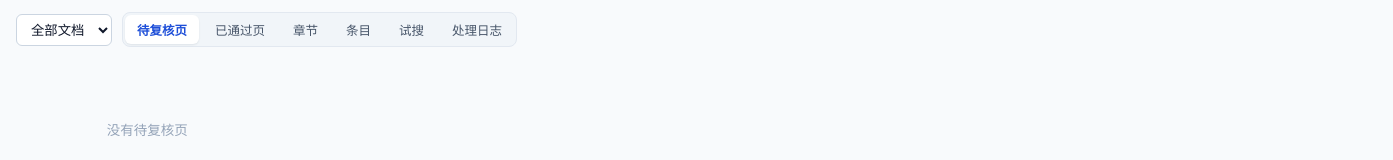
it: MaterialsView › 章节 tab：无页文本资料内容可见
Click the button "章节". click: {"x": 306, "y": 30}
box: 281,15 -> 330,44
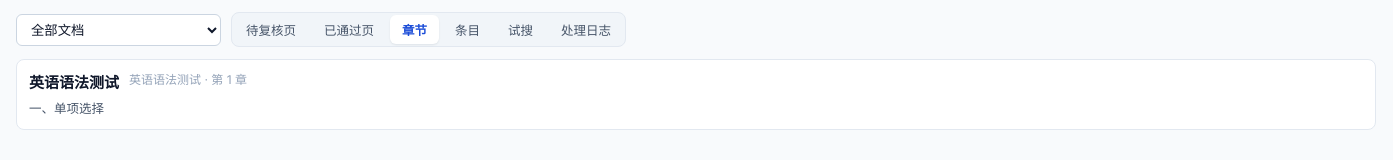
Now the text "一、单项选择" is shown, box 29,100 -> 104,116
Now the text "英语语法测试" is shown, box 29,70 -> 119,96
